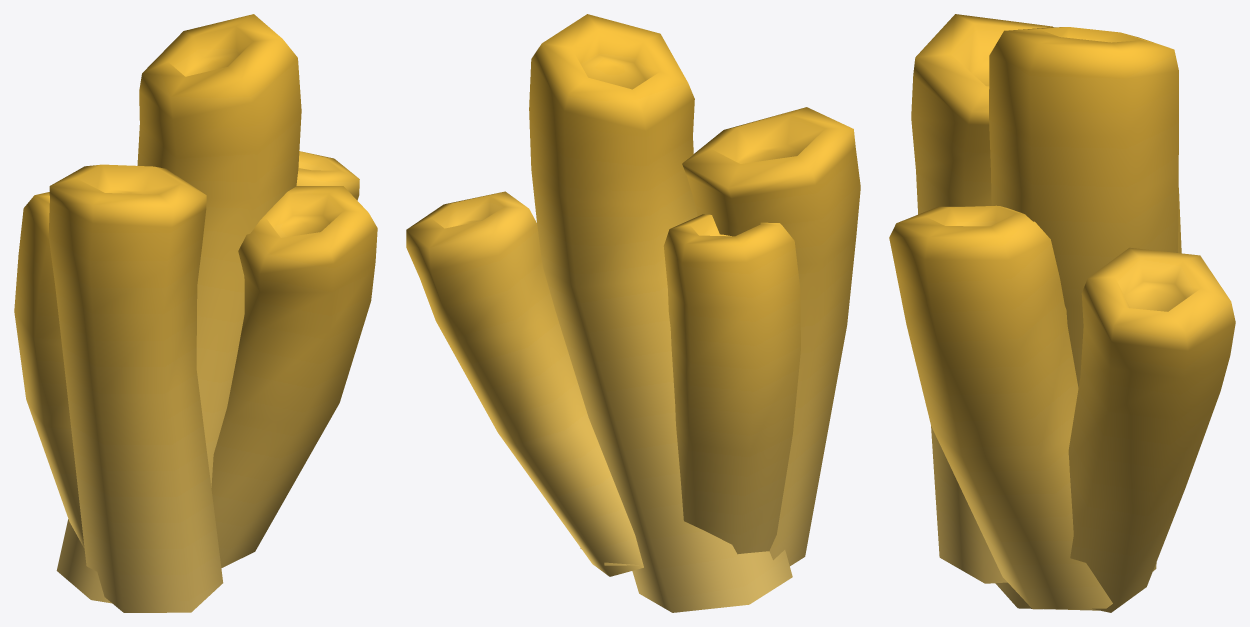
File: CoralAB.fbx
3 renders of one model, left to right at view 1: azimuth 30°, elevation 25°; view 2: azimuth 150°, elevation 25°; view 3: azimuth 270°, elevation 25°, orthographic. The views are drawn at different scales.
Parts seen in each view (by area): view 1: CoralAB; view 2: CoralAB; view 3: CoralAB.
Boxes of the visible parts, <box> form: CoralAB: <box>14,14,377,612</box>; CoralAB: <box>406,14,860,612</box>; CoralAB: <box>889,14,1235,612</box>.
Size of the model in its own units: 18.53 by 27 by 13.85.
Materials: 1 (1 with a texture image).
